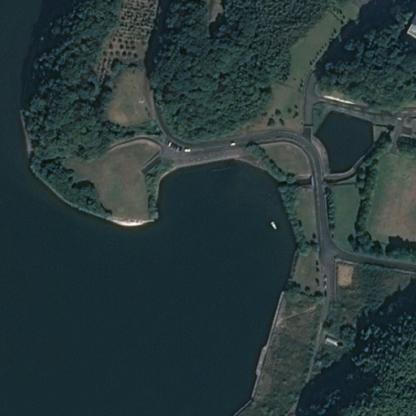ship: (264, 214, 282, 235)
